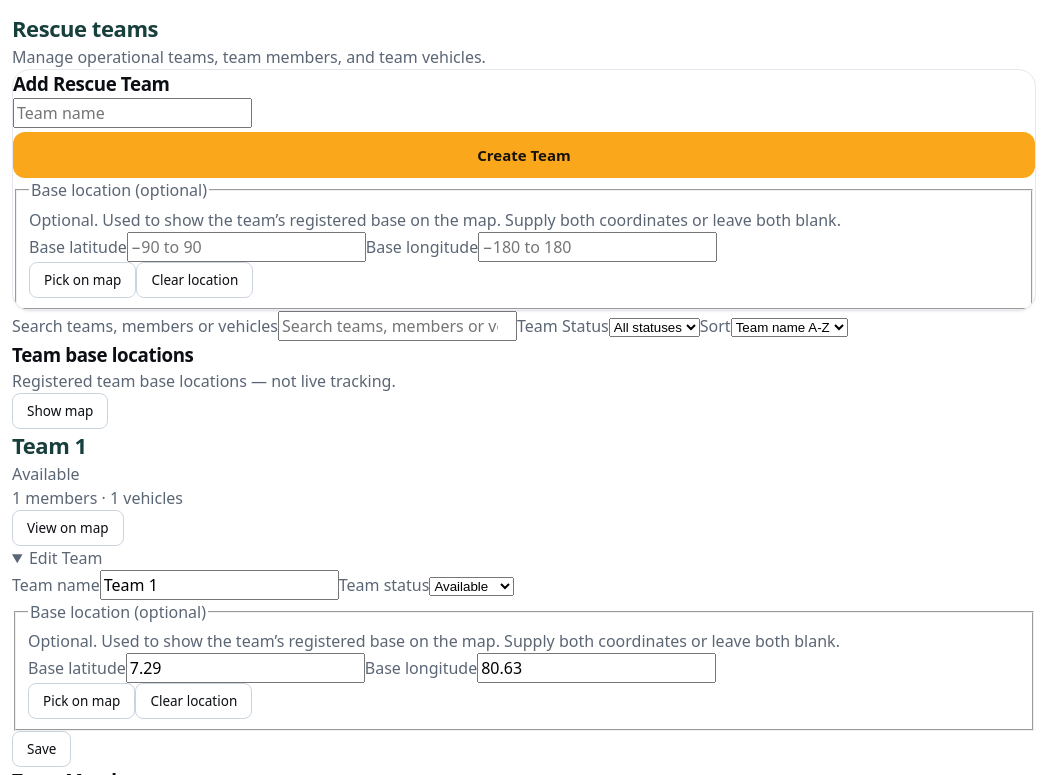
Scenario: optional base coordinate inputs › prepopulates edit coordinates and sends updated values through the existing helper
Expected: the 2nd field labelled "Base longitude" holds "80.63", x1=477 y1=653 x2=716 y2=683
Replace the text in the field labelled "Base latitude" below "Team name" with "8.1". click: (245,668)
box: x1=126 y1=653 x2=365 y2=683
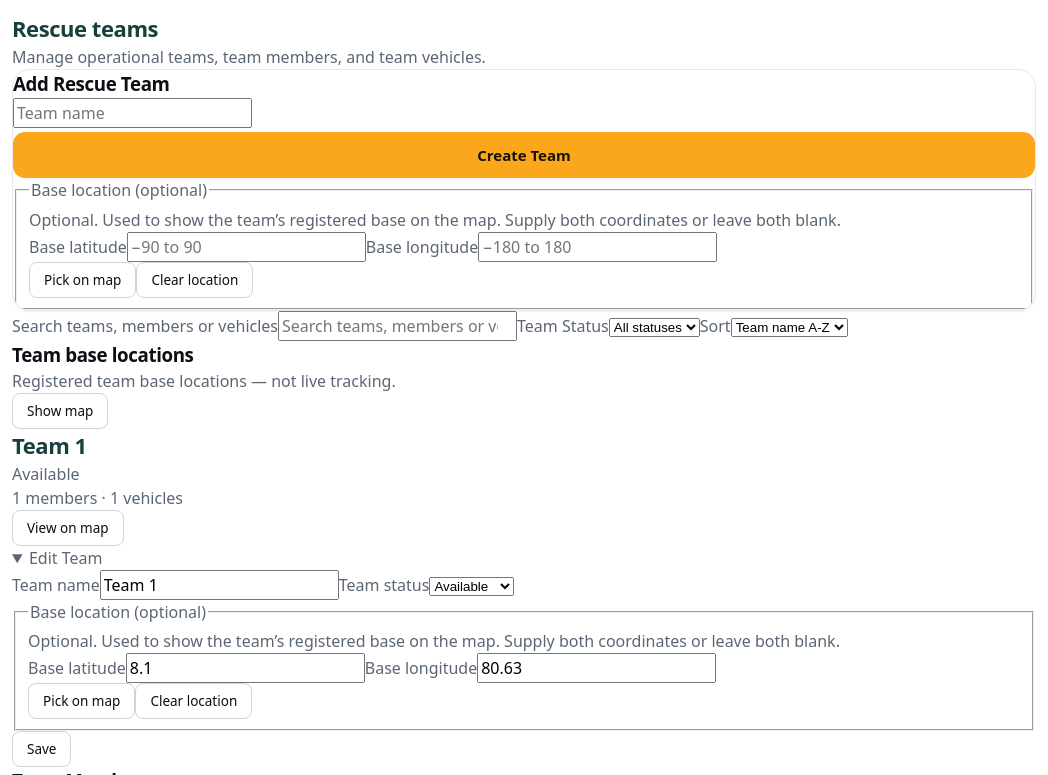
Replace the text in the 2nd field labelled "Base longitude" with "81.2". click: (597,668)
box: x1=477 y1=653 x2=716 y2=683
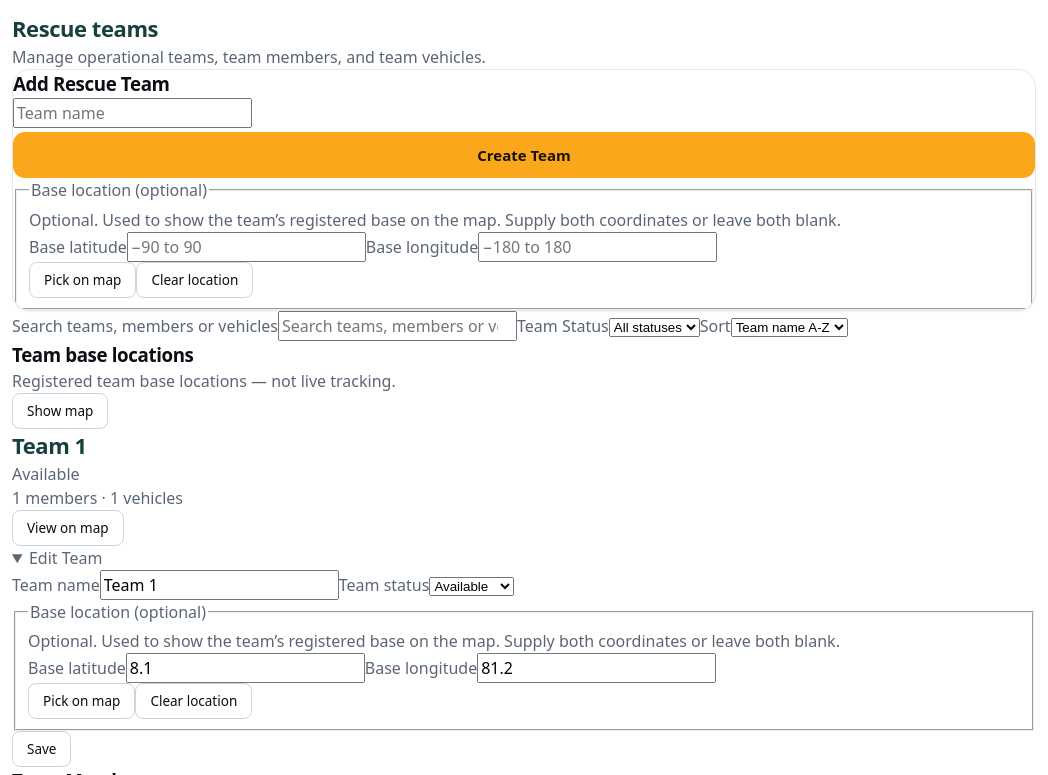
Submit the form that starts with "Team name", box x1=12 y1=570 x2=1036 y2=767
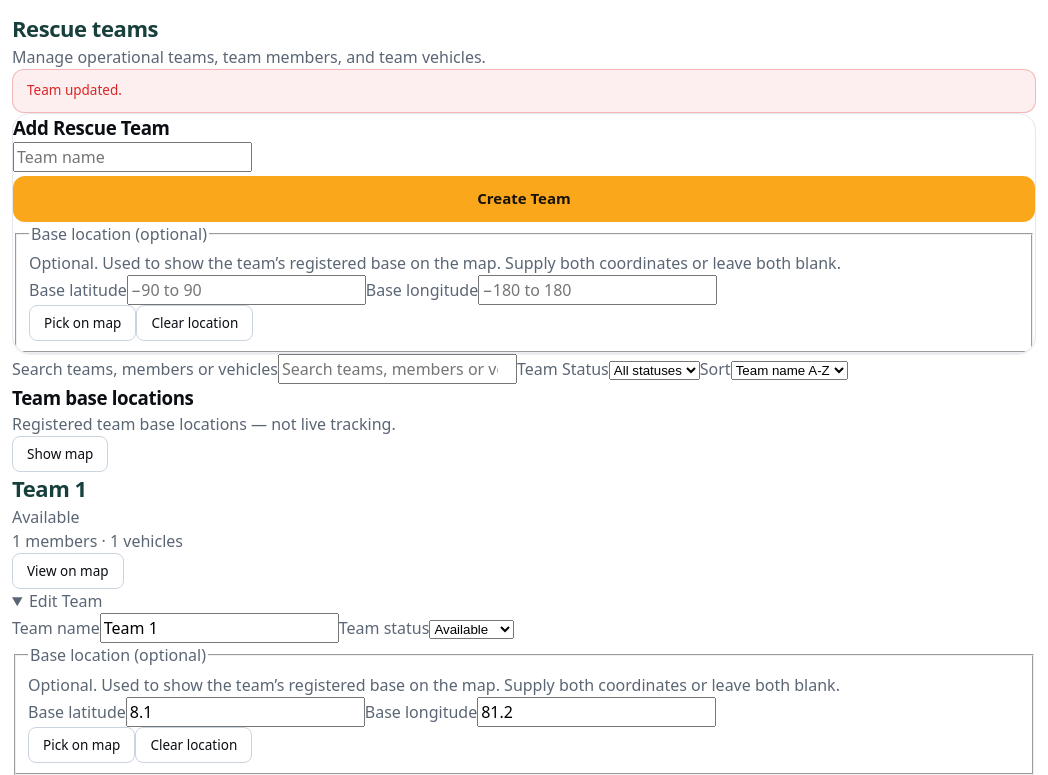
Expected: the text "Team updated." is shown, x1=12 y1=69 x2=1036 y2=113
